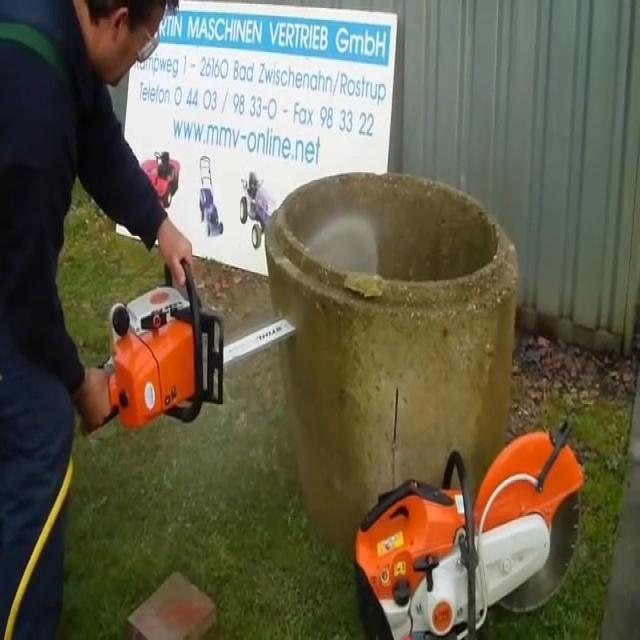Chainsaw: (70, 245, 317, 456)
